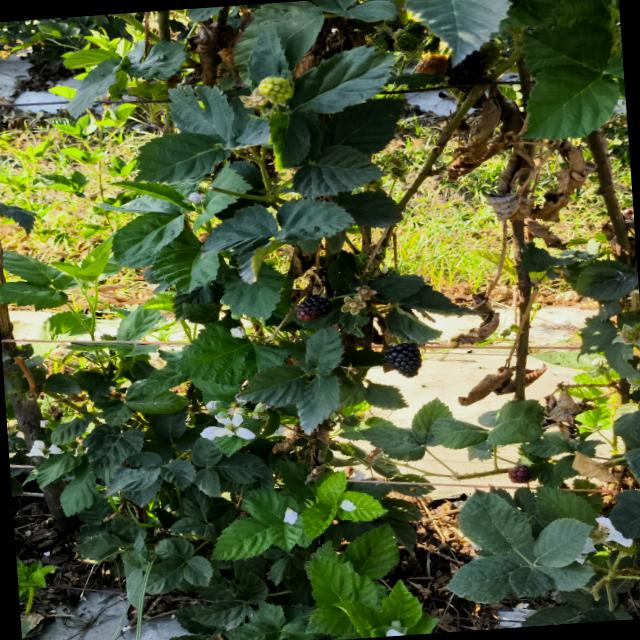flor: (201, 413, 255, 440)
maduro: (384, 342, 422, 377)
marron: (296, 295, 332, 320)
